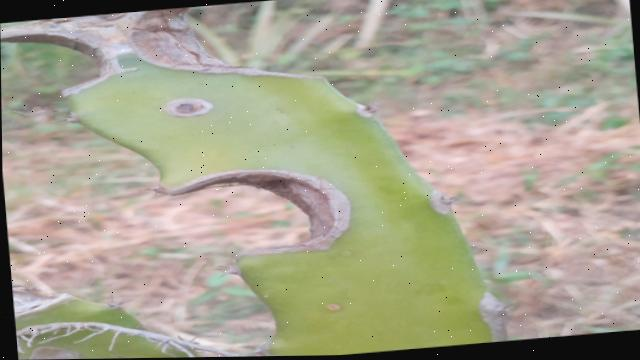stemcanker: (159, 96, 215, 120), (320, 299, 345, 314)
